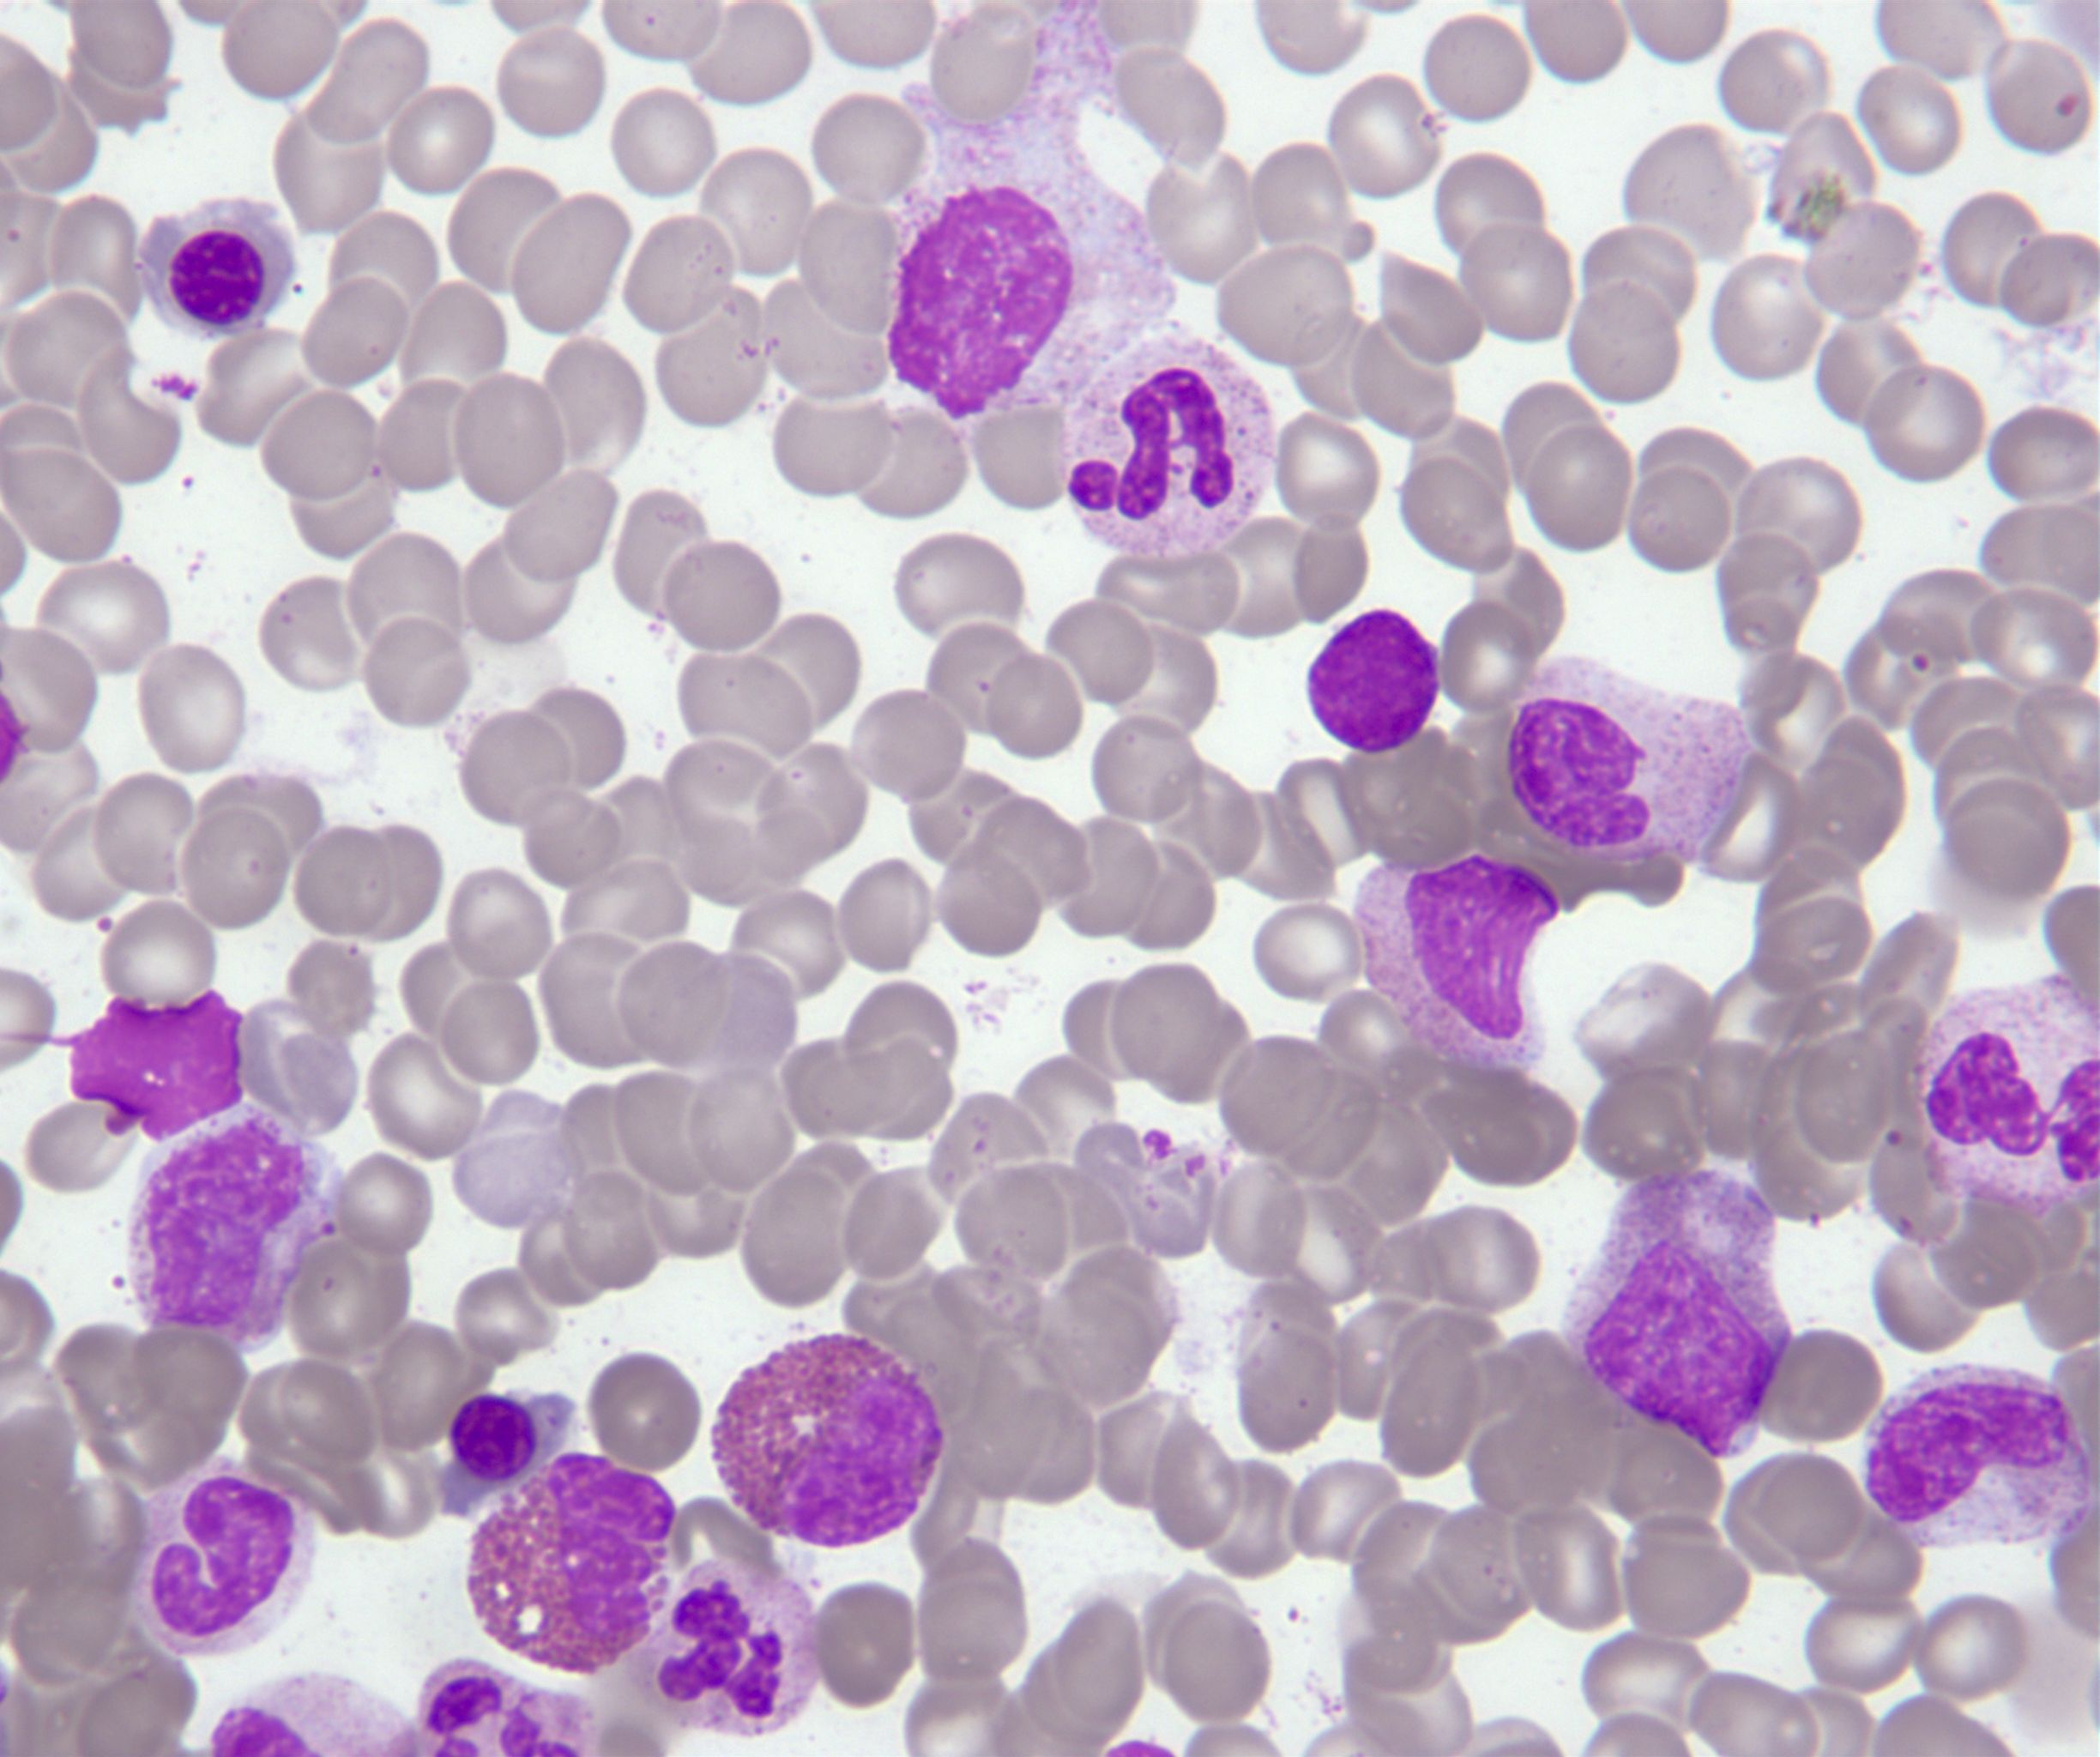24: (133, 190, 302, 342), (426, 1384, 579, 1523)
3: (1561, 1162, 1798, 1464), (126, 1096, 344, 1361), (1350, 853, 1566, 1073)
32: (1305, 605, 1444, 759)
4: (1856, 1357, 2098, 1553)
5: (1503, 656, 1758, 874), (131, 1448, 319, 1665)
6: (1055, 323, 1277, 567), (1915, 974, 2100, 1223)
x: (708, 1331, 947, 1553), (881, 167, 1078, 433), (467, 1448, 678, 1680), (635, 1548, 822, 1743)
